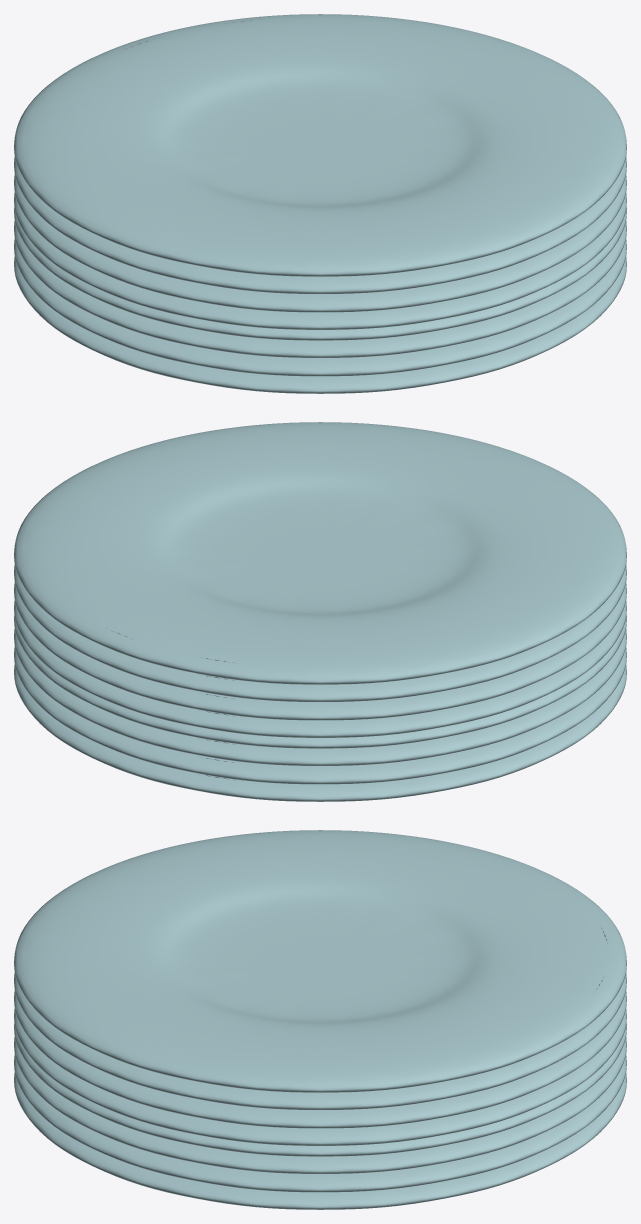
File: Stack_of_plates.fbx
3 renders of one model, top to bottom at view 1: azimuth 30°, elevation 25°; view 2: azimuth 150°, elevation 25°; view 3: azimuth 270°, elevation 25°, orthographic.
Parts seen in each view (by area): view 1: Stack_of_plates; view 2: Stack_of_plates; view 3: Stack_of_plates.
Boxes of the visible parts, x1=… form: Stack_of_plates: x1=14, y1=14, x2=626, y2=393; Stack_of_plates: x1=14, y1=422, x2=626, y2=801; Stack_of_plates: x1=14, y1=830, x2=626, y2=1209.
Size of the model in its own units: 37.15 by 9.31 by 37.15.
1 material, 1 textured.
